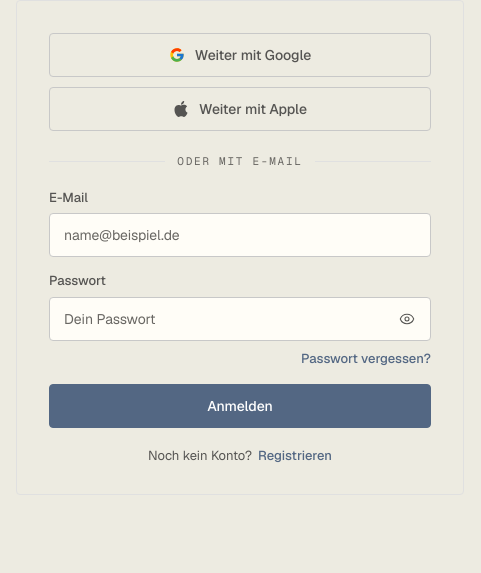
Scenario: LoginForm › error handling › shows wrong credentials message for a 401 response
Type "t@t.de" into the field labelled "E-Mail". click: (240, 235)
box: [49,213,431,257]
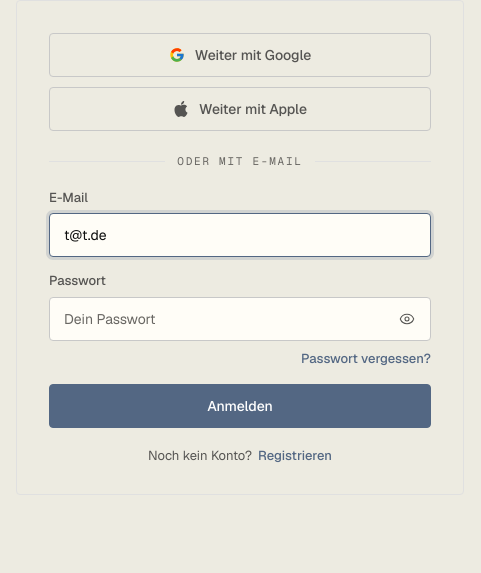
Type "pass" into the password field labelled "Passwort". click: (240, 318)
box: [49,296,431,340]
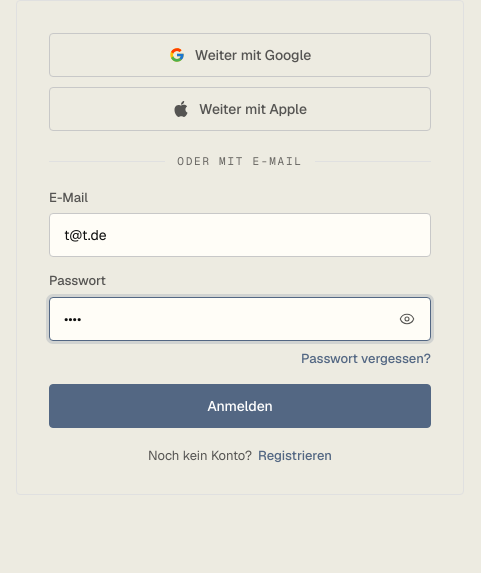
Click the button "Anmelden". click: (240, 406)
box: [49,384,431,428]
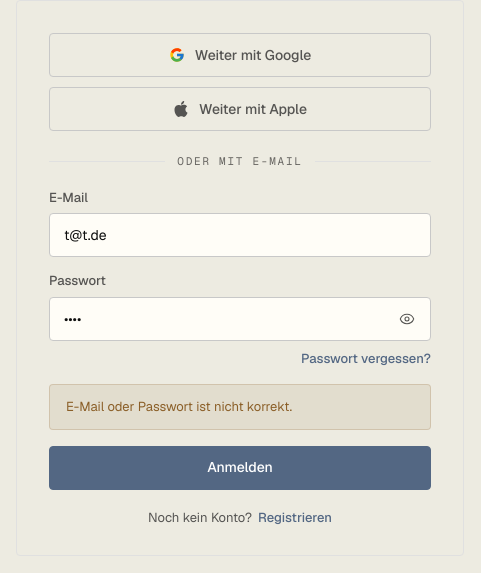
Result: the message reads "E-Mail oder Passwort ist nicht korrekt." at [66,398,292,415]
